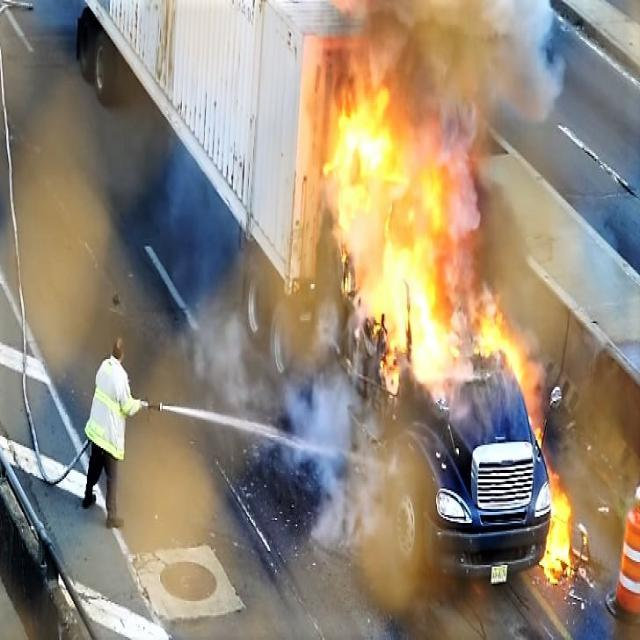Fire: (326, 97, 452, 386), (538, 474, 576, 579), (476, 312, 523, 385)
Smoke: (343, 0, 570, 355), (177, 286, 391, 538)
